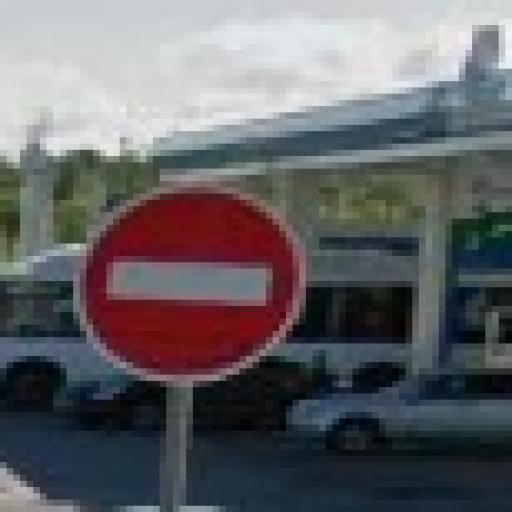traffic_sign: (74, 182, 307, 388)
